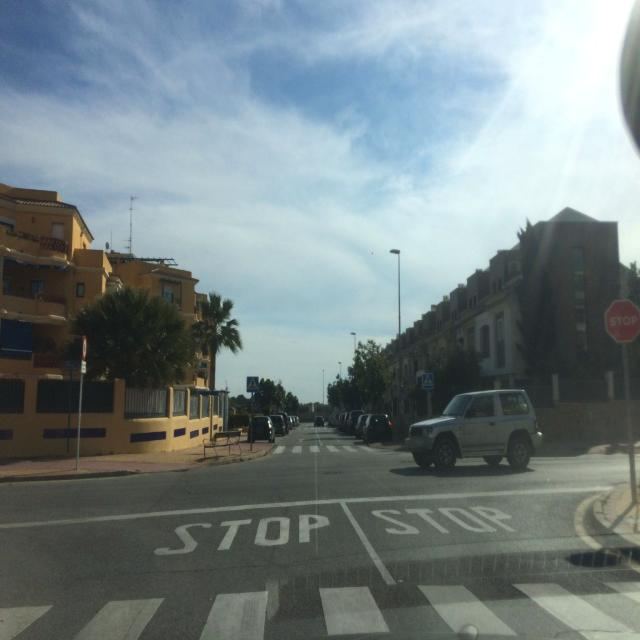car: (404, 388, 544, 472), (362, 412, 394, 446), (247, 415, 276, 444), (345, 409, 365, 434), (270, 413, 288, 437), (354, 413, 370, 439), (336, 412, 347, 430), (339, 412, 349, 431), (313, 415, 325, 427), (291, 414, 300, 426)
